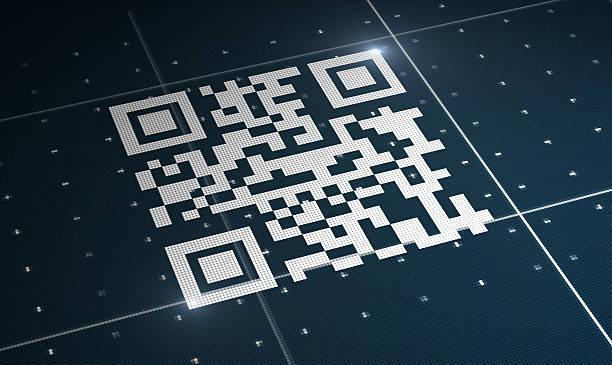qr_code: (108, 47, 496, 313)
